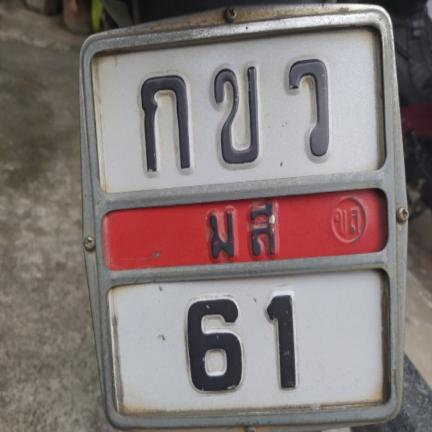1: (260, 289, 302, 392)
6: (184, 291, 243, 396)
A01: (137, 75, 197, 174)
A02: (207, 63, 262, 166)
A37: (274, 52, 337, 158)
MSN: (195, 202, 296, 258)
